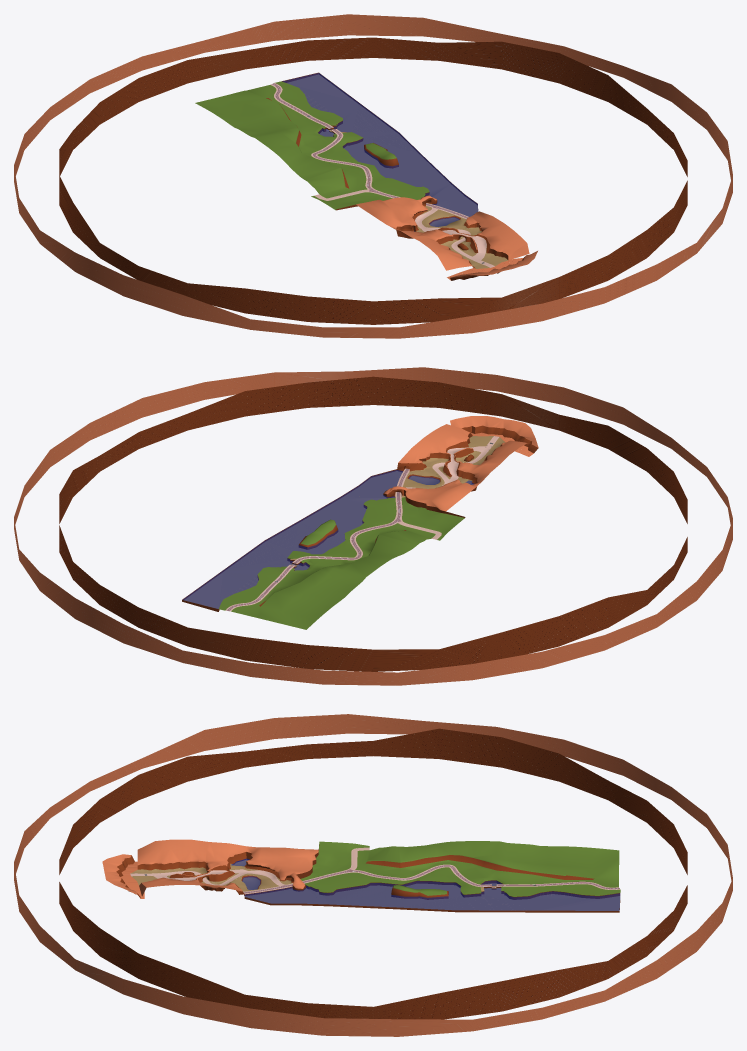
Rendered from cc_canyontrack.FBX.
3 renders of one model, top to bottom at view 1: azimuth 30°, elevation 25°; view 2: azimuth 150°, elevation 25°; view 3: azimuth 270°, elevation 25°, orthographic.
Visible parts, largest first — view 1: G_horizon_near, G_ MountainGeomery, G_horizon_far, G_water; view 2: G_horizon_near, G_ MountainGeomery, G_horizon_far, G_water; view 3: G_ MountainGeomery, G_horizon_near, G_horizon_far, G_water.
Part boxes in pixels (box(x1,y1,x2,y2)): G_horizon_near: box(59, 37, 687, 324); G_ MountainGeomery: box(195, 72, 537, 280); G_horizon_far: box(14, 14, 732, 338); G_water: box(282, 73, 478, 231); G_horizon_near: box(59, 376, 687, 671); G_ MountainGeomery: box(182, 416, 538, 629); G_horizon_far: box(14, 367, 732, 685); G_water: box(183, 470, 474, 608); G_ MountainGeomery: box(102, 839, 620, 912); G_horizon_near: box(59, 728, 687, 1019); G_horizon_far: box(14, 714, 732, 1036); G_water: box(231, 858, 620, 910).
Size of the model in its own units: 235823 by 11033 by 236255.
